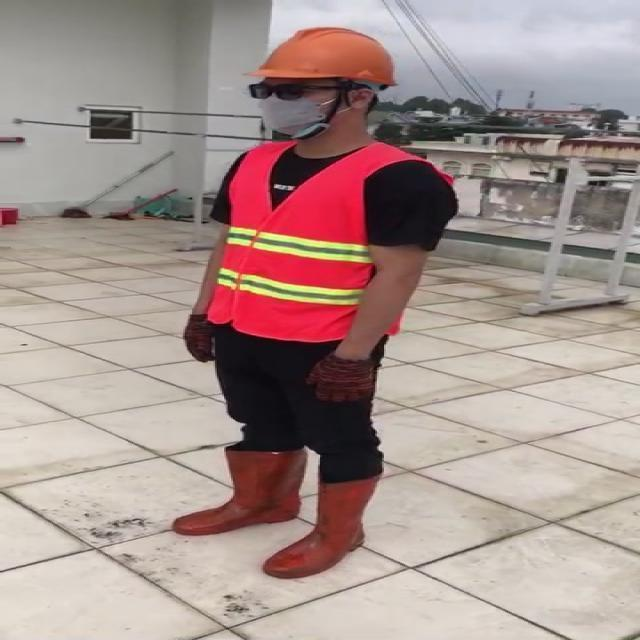gloves: (307, 353, 377, 403), (183, 311, 215, 363)
goggles: (247, 82, 338, 101)
helmet: (246, 21, 404, 91)
safety_vest: (209, 138, 457, 343)
